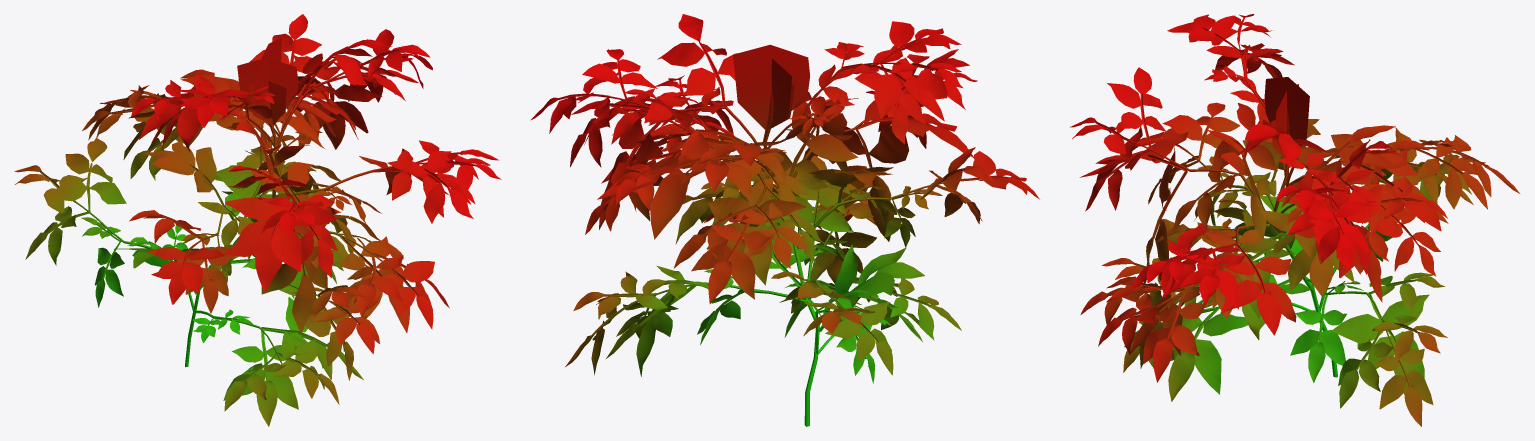
The model's file is Var4_LOD1.fbx.
3 views of the same model, side by side, from view 1: azimuth 30°, elevation 25°; view 2: azimuth 150°, elevation 25°; view 3: azimuth 270°, elevation 25° (orthographic). The views are drawn at different scales.
Visible parts, largest first — view 1: _naxt_Var4_LOD1; view 2: _naxt_Var4_LOD1; view 3: _naxt_Var4_LOD1.
Boxes of the visible parts, bbox=[...] form: _naxt_Var4_LOD1: bbox=[14, 14, 501, 426]; _naxt_Var4_LOD1: bbox=[530, 14, 1039, 426]; _naxt_Var4_LOD1: bbox=[1070, 14, 1519, 426].
Size of the model in its own units: 101 by 84.83 by 104.
